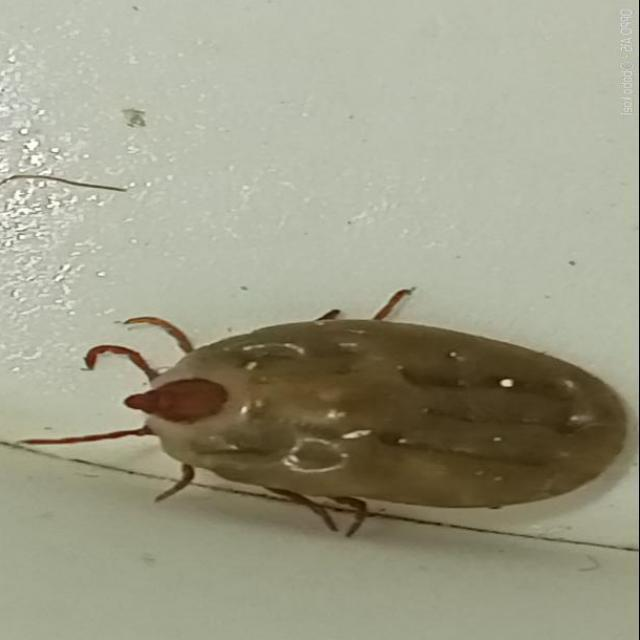Rhipicephalus Sanguineus-F-Fed: (16, 287, 640, 537)
